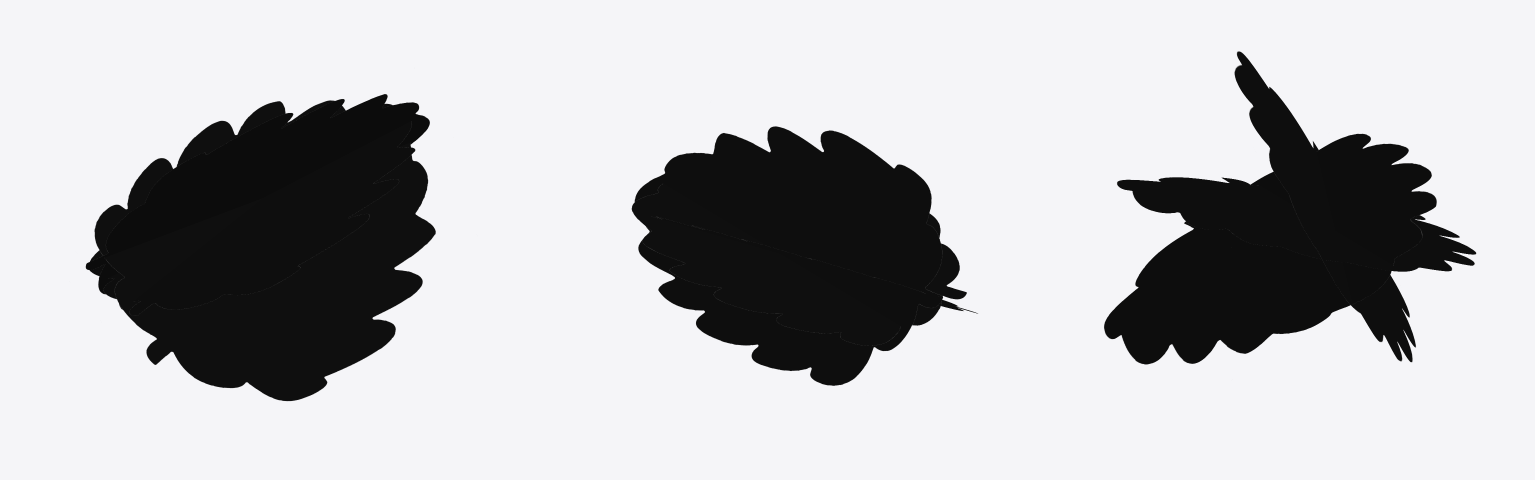
Rendered from PineCone.glb.
3 renders of one model, left to right at view 1: azimuth 30°, elevation 25°; view 2: azimuth 150°, elevation 25°; view 3: azimuth 270°, elevation 25°, orthographic. The views are drawn at different scales.
Parts seen in each view (by area): view 1: PineCone; view 2: PineCone; view 3: PineCone.
Boxes of the visible parts, box(x1,y1,x2,y2) form: PineCone: box(85, 94, 435, 401); PineCone: box(631, 126, 978, 385); PineCone: box(1104, 51, 1476, 364).
Size of the model in its own units: 2.65 by 2.32 by 2.07.
1 material, 1 textured.
